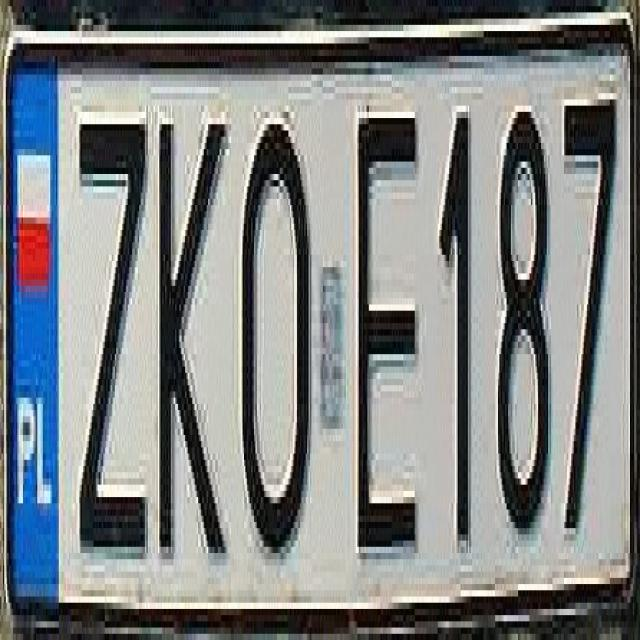pl_license_plate: (8, 50, 632, 584)
